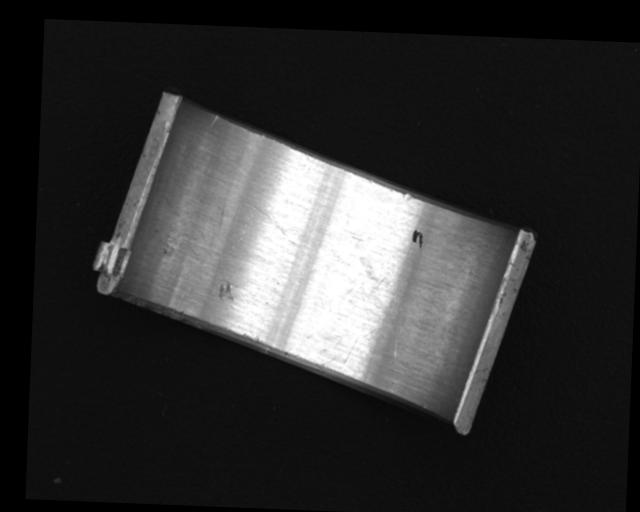blot: (349, 251, 395, 306), (410, 227, 424, 250)
bruise: (217, 281, 235, 303), (402, 192, 411, 200)
nick: (244, 201, 300, 248), (208, 113, 219, 127)
